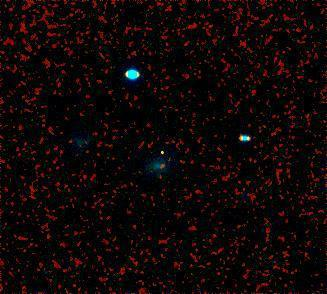star: (147, 137, 177, 167)
